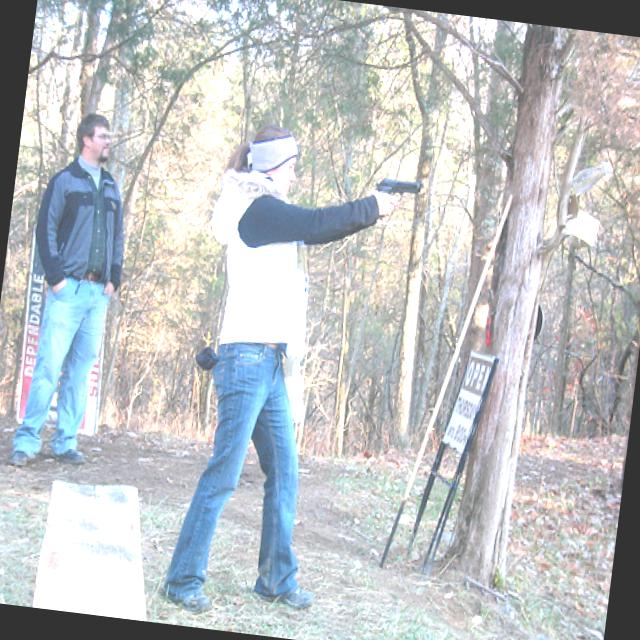handgun: (370, 170, 423, 200)
